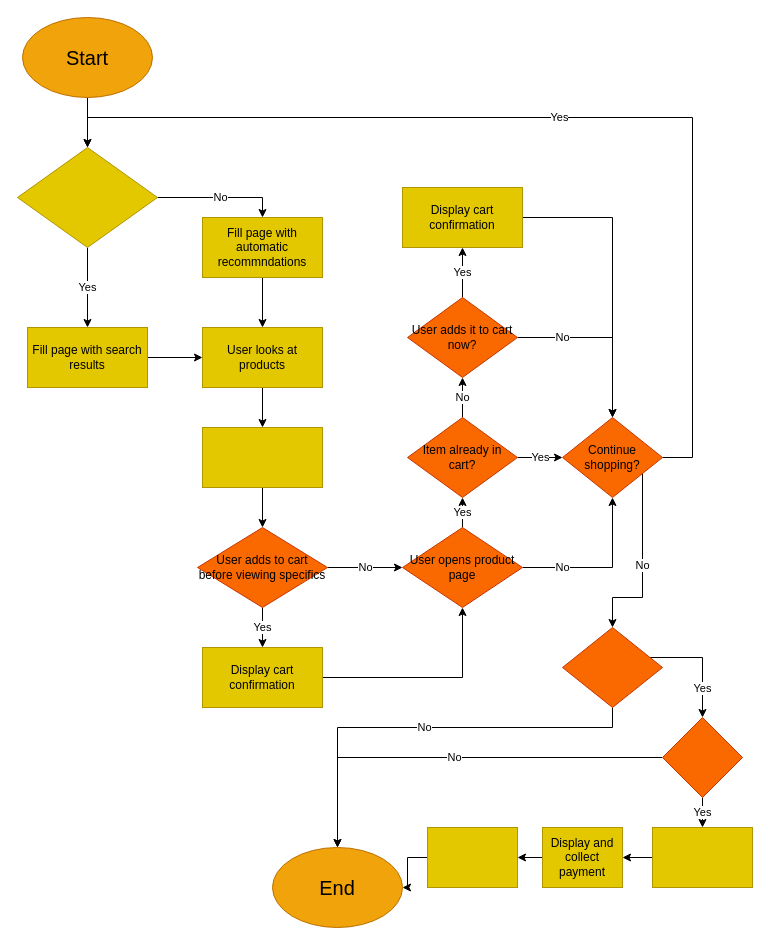
Some shapes in this 770 by 945 pixel diagram are drawn without their labels. The centre of each missing label's shape, as x and y in pixels:
"Any items in cart?" goes at [612,667].
"Checkout?" goes at [702,757].
"Display cart screen" goes at [702,857].
"Send confirmation email" goes at [472,857].
"User searches for product" goes at [87,197].
"User views a specific product" goes at [262,457].
